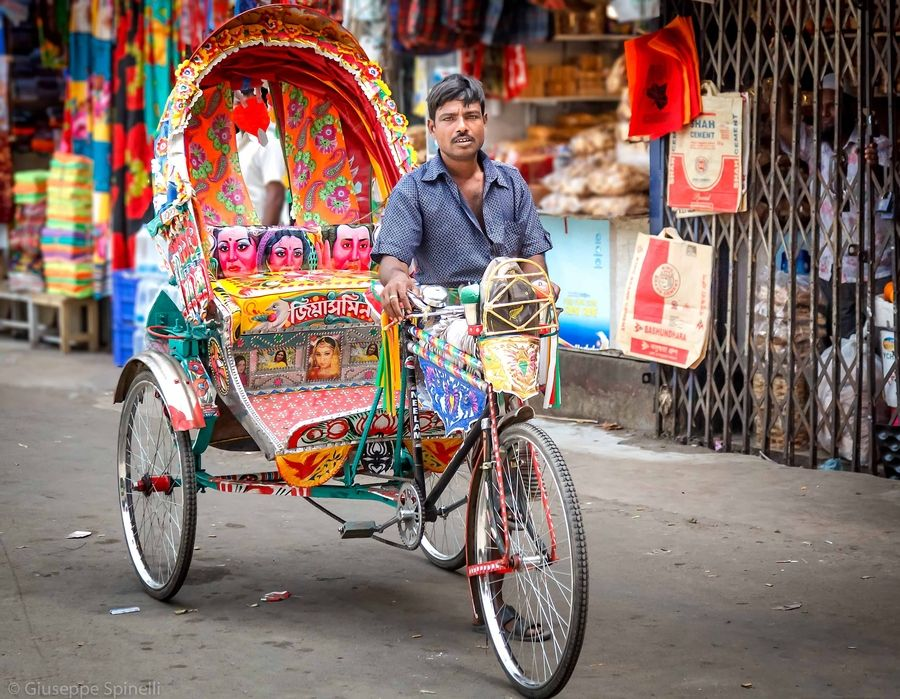Rickshaw: (106, 31, 603, 664)
